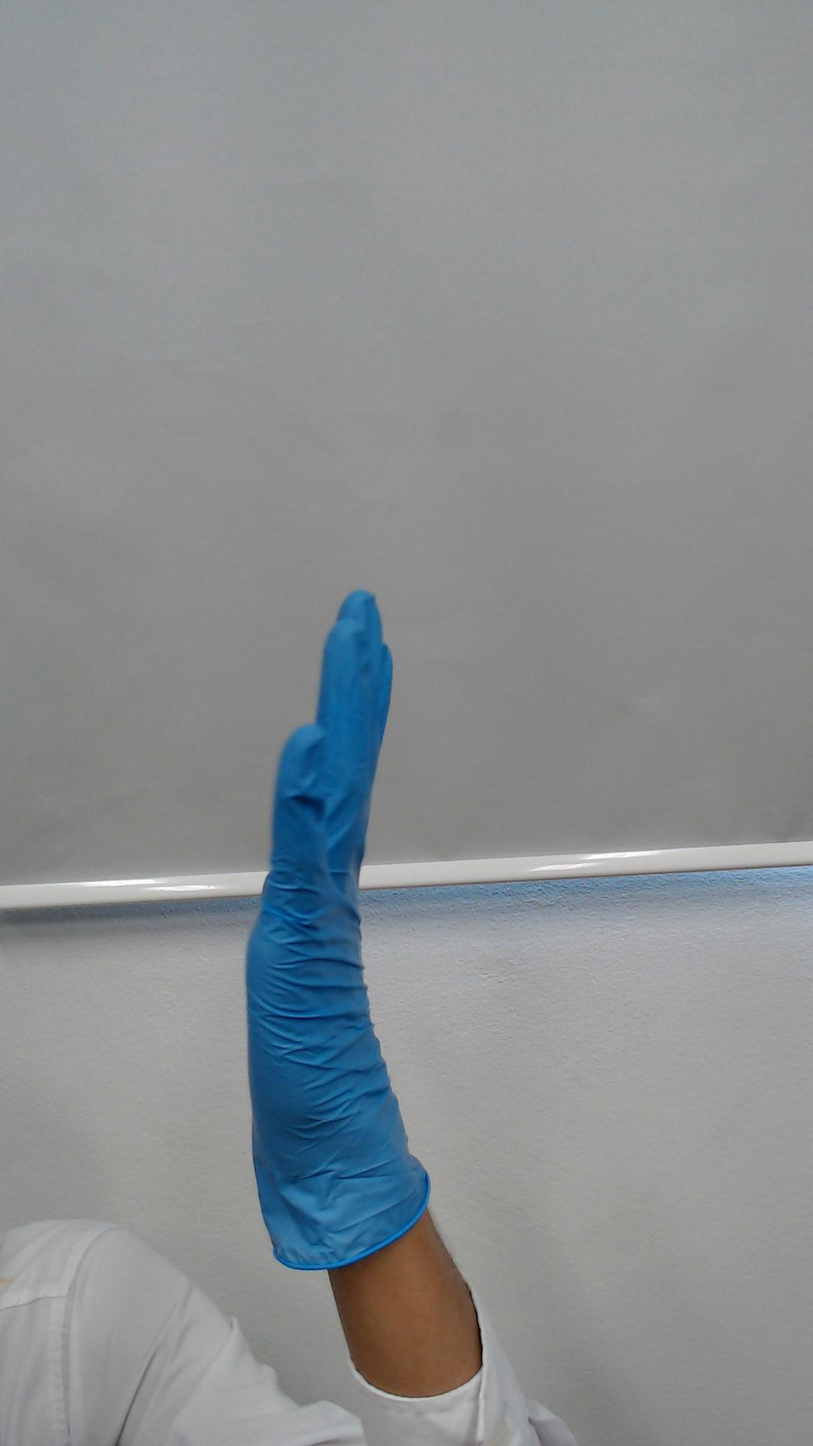gloves: (222, 570, 414, 1019)
